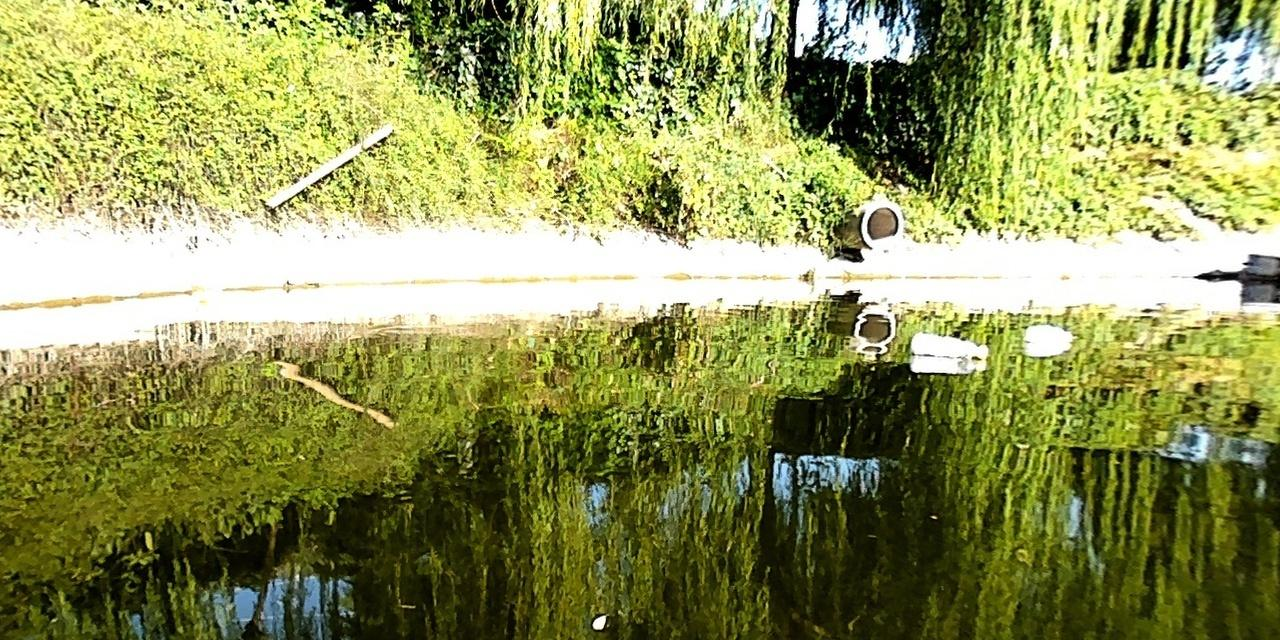bottle: (909, 332, 985, 358), (1020, 322, 1073, 345)
